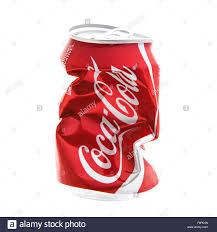can: (53, 10, 176, 201)
